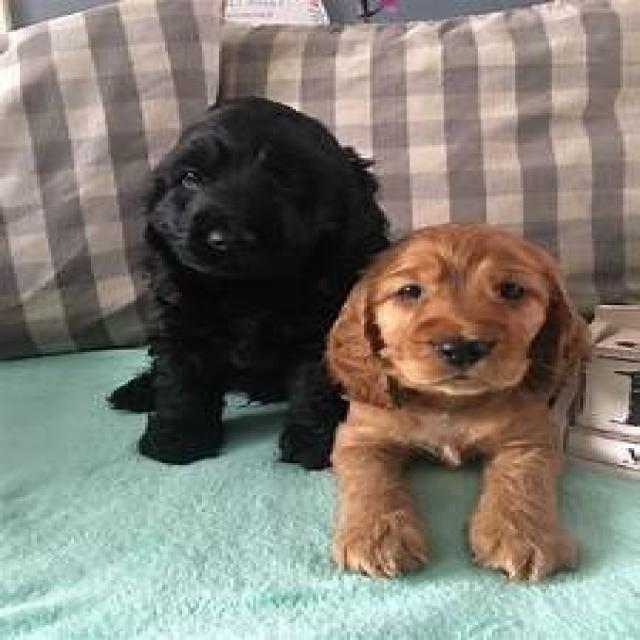dog: (111, 98, 393, 471), (324, 224, 592, 585)
